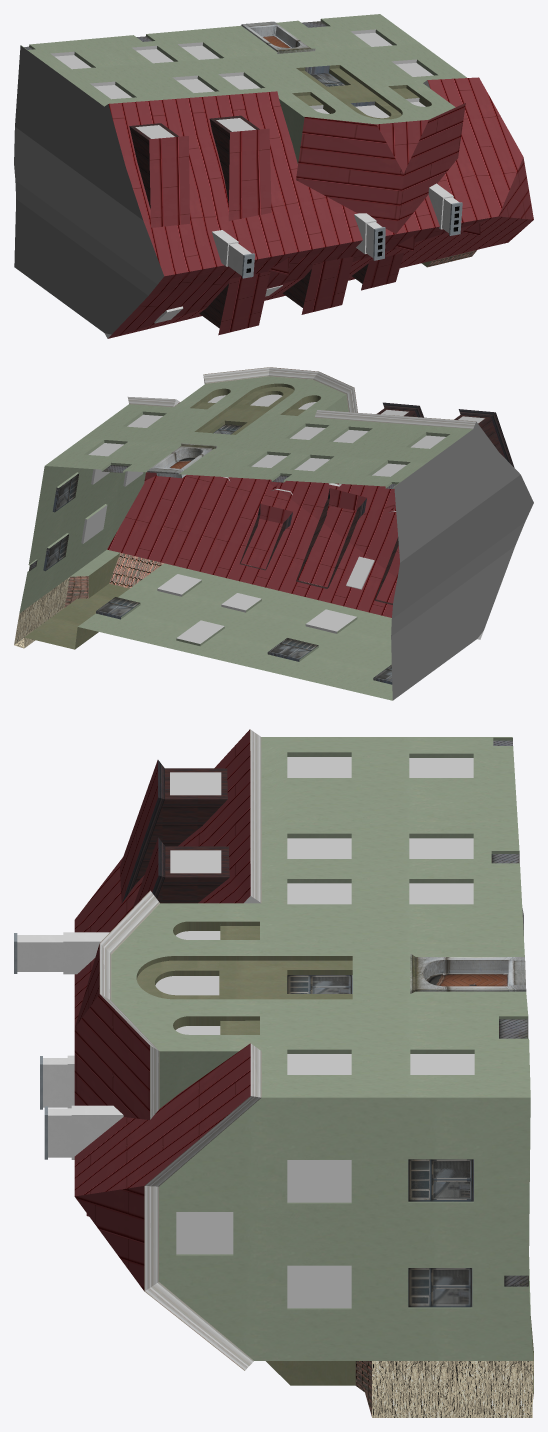
The model's file is Myyrivahe_39.obj.
3 renders of one model, top to bottom at view 1: azimuth 30°, elevation 25°; view 2: azimuth 150°, elevation 25°; view 3: azimuth 270°, elevation 25°, orthographic. The views are drawn at different scales.
Visible parts, largest first — view 1: Myyrivahe_39; view 2: Myyrivahe_39; view 3: Myyrivahe_39.
Boxes of the visible parts, x1,y1,x2,y2 form: Myyrivahe_39: (14, 14, 533, 338); Myyrivahe_39: (14, 367, 533, 700); Myyrivahe_39: (14, 729, 533, 1417).
Bounding box in the file's own units: 19.33 × 12.21 × 14.38.
